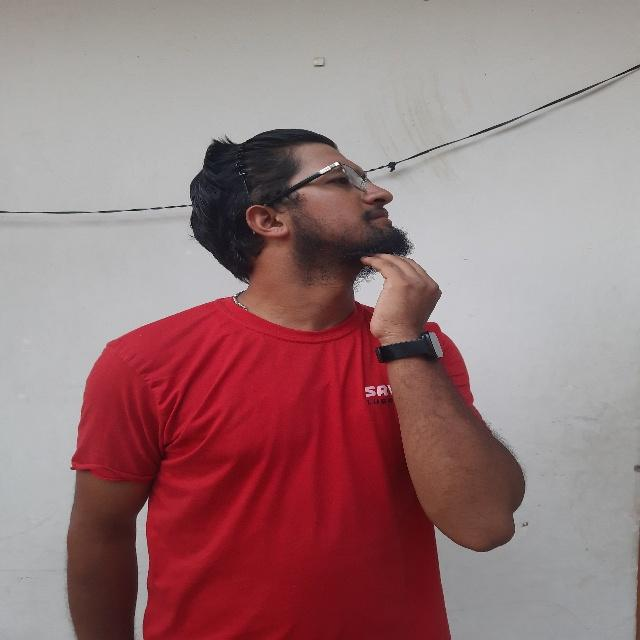Chin Flick: (192, 122, 452, 365)
